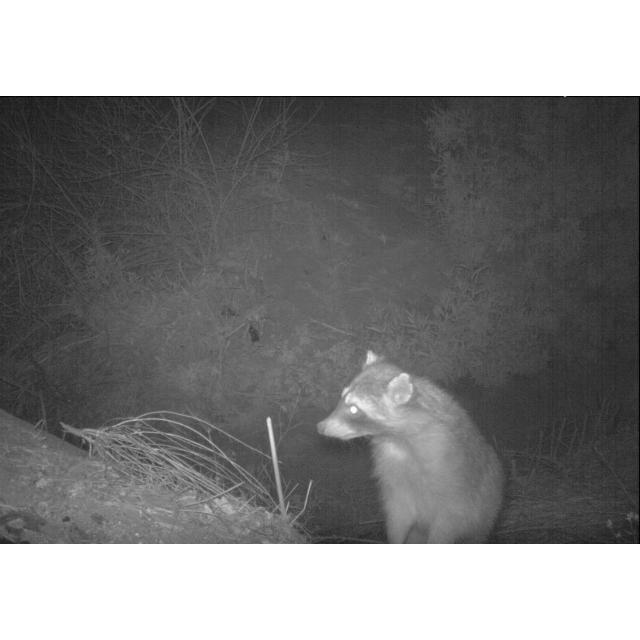animals: (318, 350, 504, 544)
